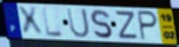L: (41, 7, 64, 38)
P: (137, 9, 159, 42)
S: (89, 9, 114, 40)
U: (66, 7, 91, 39)
X: (16, 6, 45, 37)
Z: (115, 11, 139, 40)
